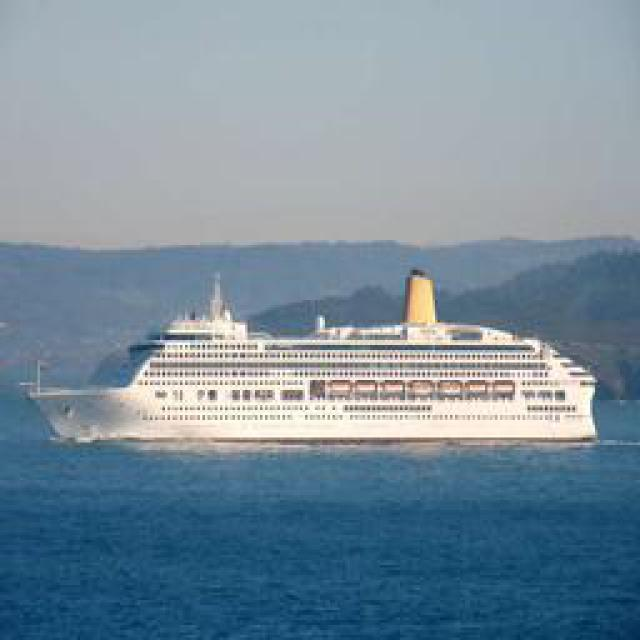Ship: (32, 260, 605, 450)
